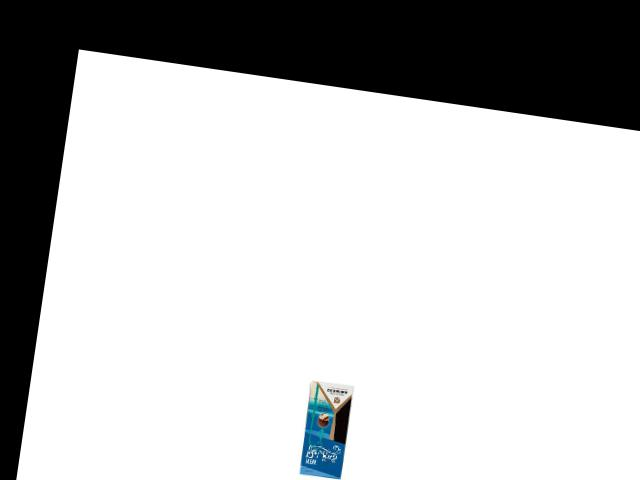chocolate: (296, 377, 357, 480)
